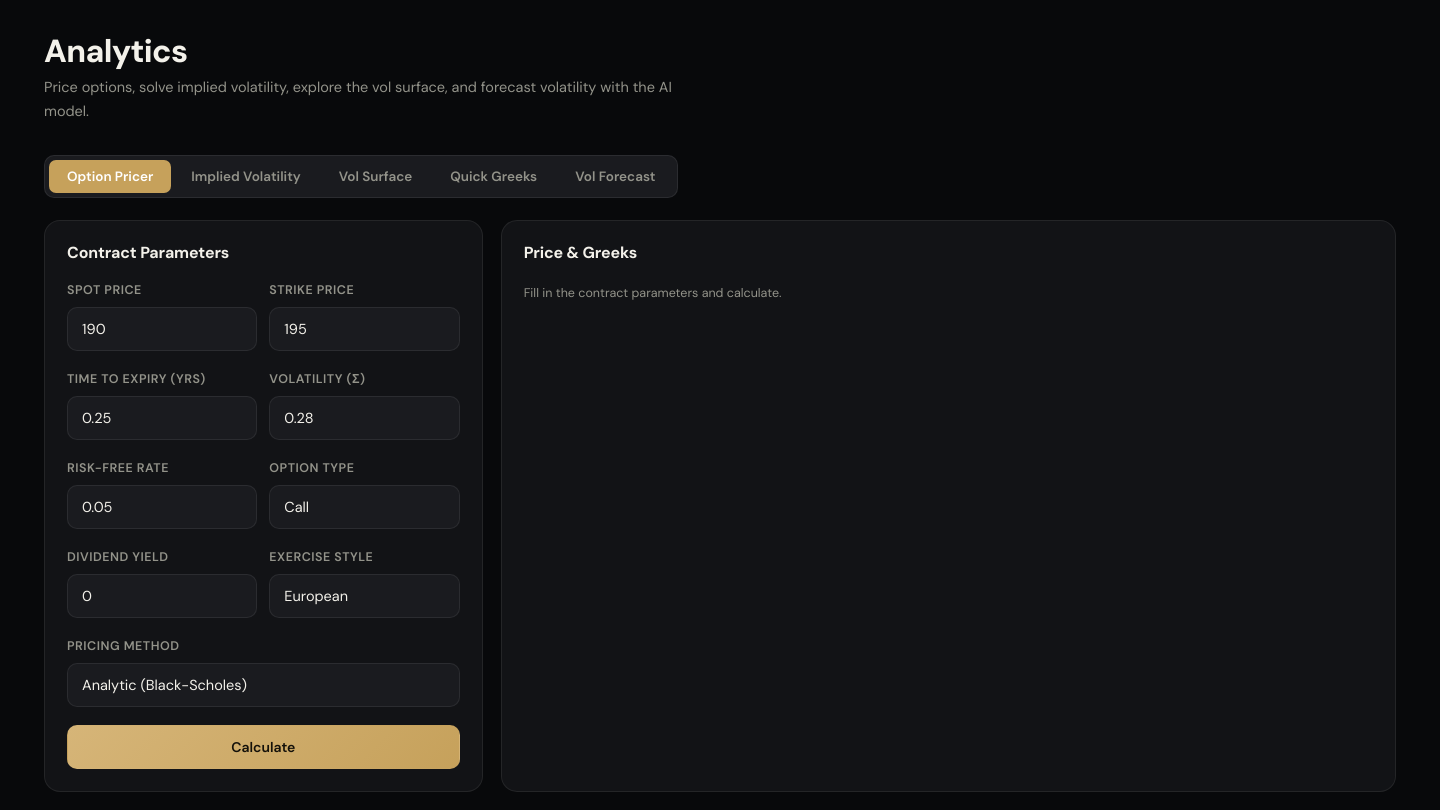
Option pricer › disables the button while pricing
The image size is (1440, 810).
Step 1. Click the button "Calculate" → point(263, 747), box [67,725,460,769]
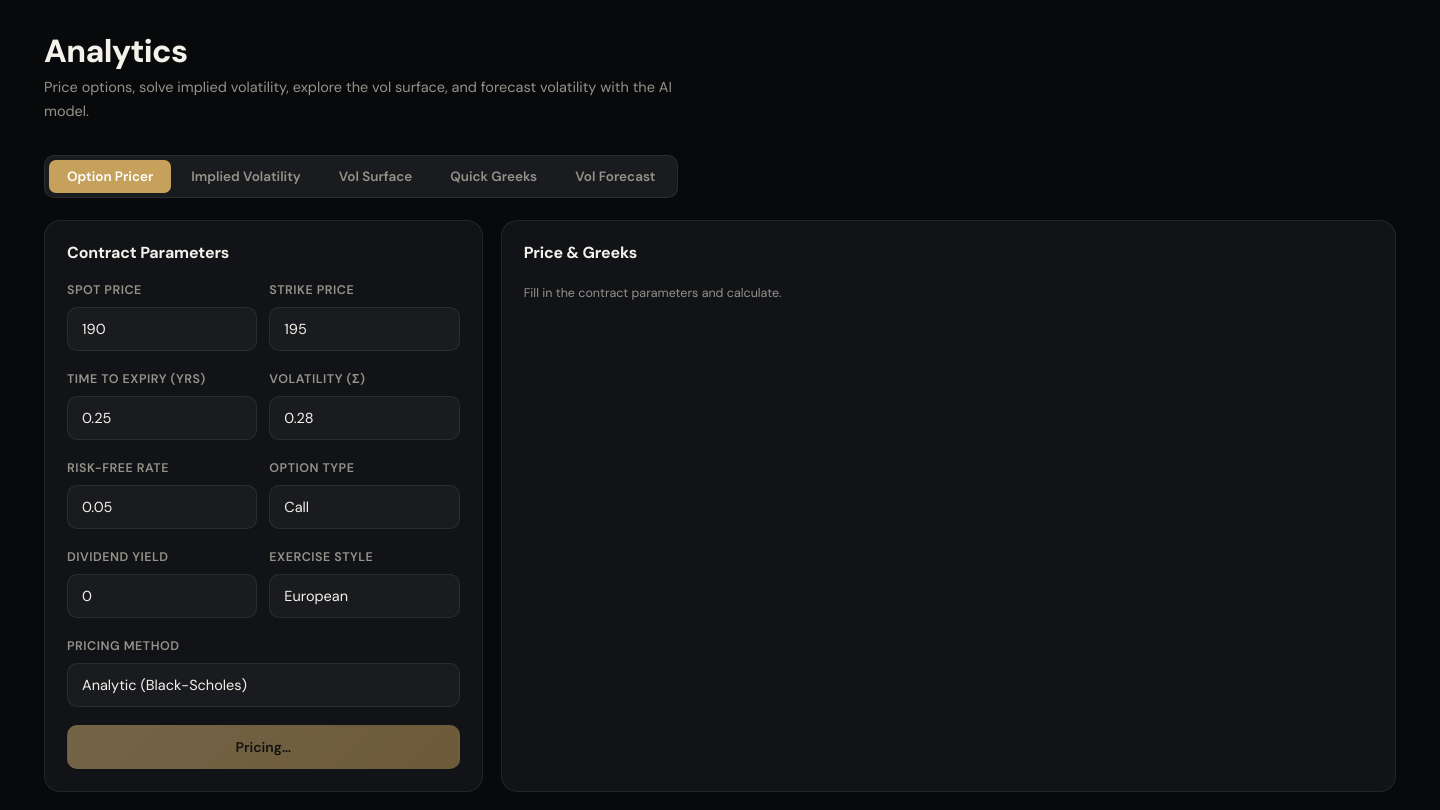
Now the button "Pricing…" is disabled, box [67,725,460,769]
